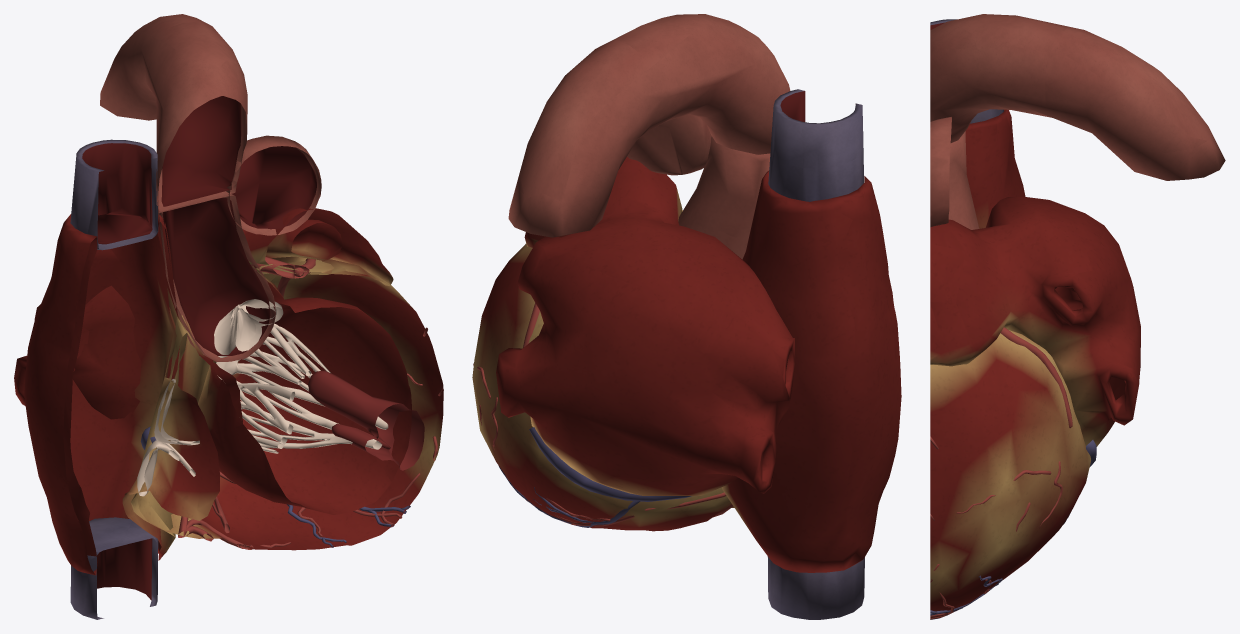
The model's file is heart3-cut-full.ffaf390e.glb.
The picture shows the model from 3 angles, left to right: view 1: azimuth 30°, elevation 25°; view 2: azimuth 150°, elevation 25°; view 3: azimuth 270°, elevation 25°; orthographic projection. The views are drawn at different scales.
Visible parts, largest first — view 1: Heart_Wall_LeftVentricle, Heart_Wall_RightAtrium, Aorta_Arch, Heart_Wall_LeftAtrium, Aorta_Ascending, VenaCava_Superior, Heart_Wall_RightVentricle, PulmonaryTrunk, VenaCava_Inferior, PapillaryMuscle_LV_Lateral, Valve_Mitral_PosteriorLeaflet, Valve_Mitral_AnteriorLeaflet (+7 smaller); view 2: Heart_Wall_LeftAtrium, Heart_Wall_RightAtrium, Aorta_Arch, Heart_Wall_LeftVentricle, VenaCava_Superior, Aorta_Ascending, VenaCava_Inferior, PulmonaryTrunk, CoronaryVein_CoronarySinus, CoronaryVein_PosteriorVeinOfLeftVentricle, CoronaryArtery_CircumflexBranch_LCA; view 3: Heart_Wall_LeftAtrium, Heart_Wall_LeftVentricle, Aorta_Arch, Heart_Wall_RightAtrium, PulmonaryTrunk, Aorta_Ascending, CoronaryArtery_CircumflexBranch_LCA.
Part boxes in pixels (x1=…): Heart_Wall_LeftVentricle: x1=186, y1=260, x2=443, y2=550; Heart_Wall_RightAtrium: x1=24, y1=214, x2=187, y2=575; Aorta_Arch: x1=100, y1=14, x2=247, y2=211; Heart_Wall_LeftAtrium: x1=14, y1=208, x2=393, y2=419; Aorta_Ascending: x1=158, y1=194, x2=275, y2=361; VenaCava_Superior: x1=70, y1=139, x2=158, y2=250; Heart_Wall_RightVentricle: x1=131, y1=315, x2=242, y2=543; PulmonaryTrunk: x1=224, y1=135, x2=321, y2=235; VenaCava_Inferior: x1=70, y1=517, x2=158, y2=619; PapillaryMuscle_LV_Lateral: x1=308, y1=370, x2=424, y2=470; Valve_Mitral_PosteriorLeaflet: x1=236, y1=323, x2=388, y2=449; Valve_Mitral_AnteriorLeaflet: x1=216, y1=326, x2=311, y2=453; Heart_Wall_LeftAtrium: x1=496, y1=157, x2=795, y2=495; Heart_Wall_RightAtrium: x1=721, y1=170, x2=901, y2=572; Aorta_Arch: x1=508, y1=14, x2=790, y2=237; Heart_Wall_LeftVentricle: x1=472, y1=210, x2=730, y2=531; VenaCava_Superior: x1=768, y1=89, x2=863, y2=201; Aorta_Ascending: x1=678, y1=136, x2=770, y2=259; VenaCava_Inferior: x1=767, y1=556, x2=864, y2=619; PulmonaryTrunk: x1=627, y1=114, x2=711, y2=175; CoronaryVein_CoronarySinus: x1=529, y1=427, x2=691, y2=501; CoronaryVein_PosteriorVeinOfLeftVentricle: x1=498, y1=465, x2=640, y2=527; CoronaryArtery_CircumflexBranch_LCA: x1=473, y1=303, x2=539, y2=449; Heart_Wall_LeftAtrium: x1=930, y1=197, x2=1140, y2=446; Heart_Wall_LeftVentricle: x1=930, y1=330, x2=1090, y2=618; Aorta_Arch: x1=930, y1=14, x2=1225, y2=180; Heart_Wall_RightAtrium: x1=965, y1=109, x2=1025, y2=228; PulmonaryTrunk: x1=930, y1=117, x2=951, y2=227; Aorta_Ascending: x1=948, y1=131, x2=979, y2=229; CoronaryArtery_CircumflexBranch_LCA: x1=930, y1=327, x2=1072, y2=582.
Size of the model in its own units: 0.1143 by 0.146 by 0.0721.
Materials: 7 (2 with a texture image).
